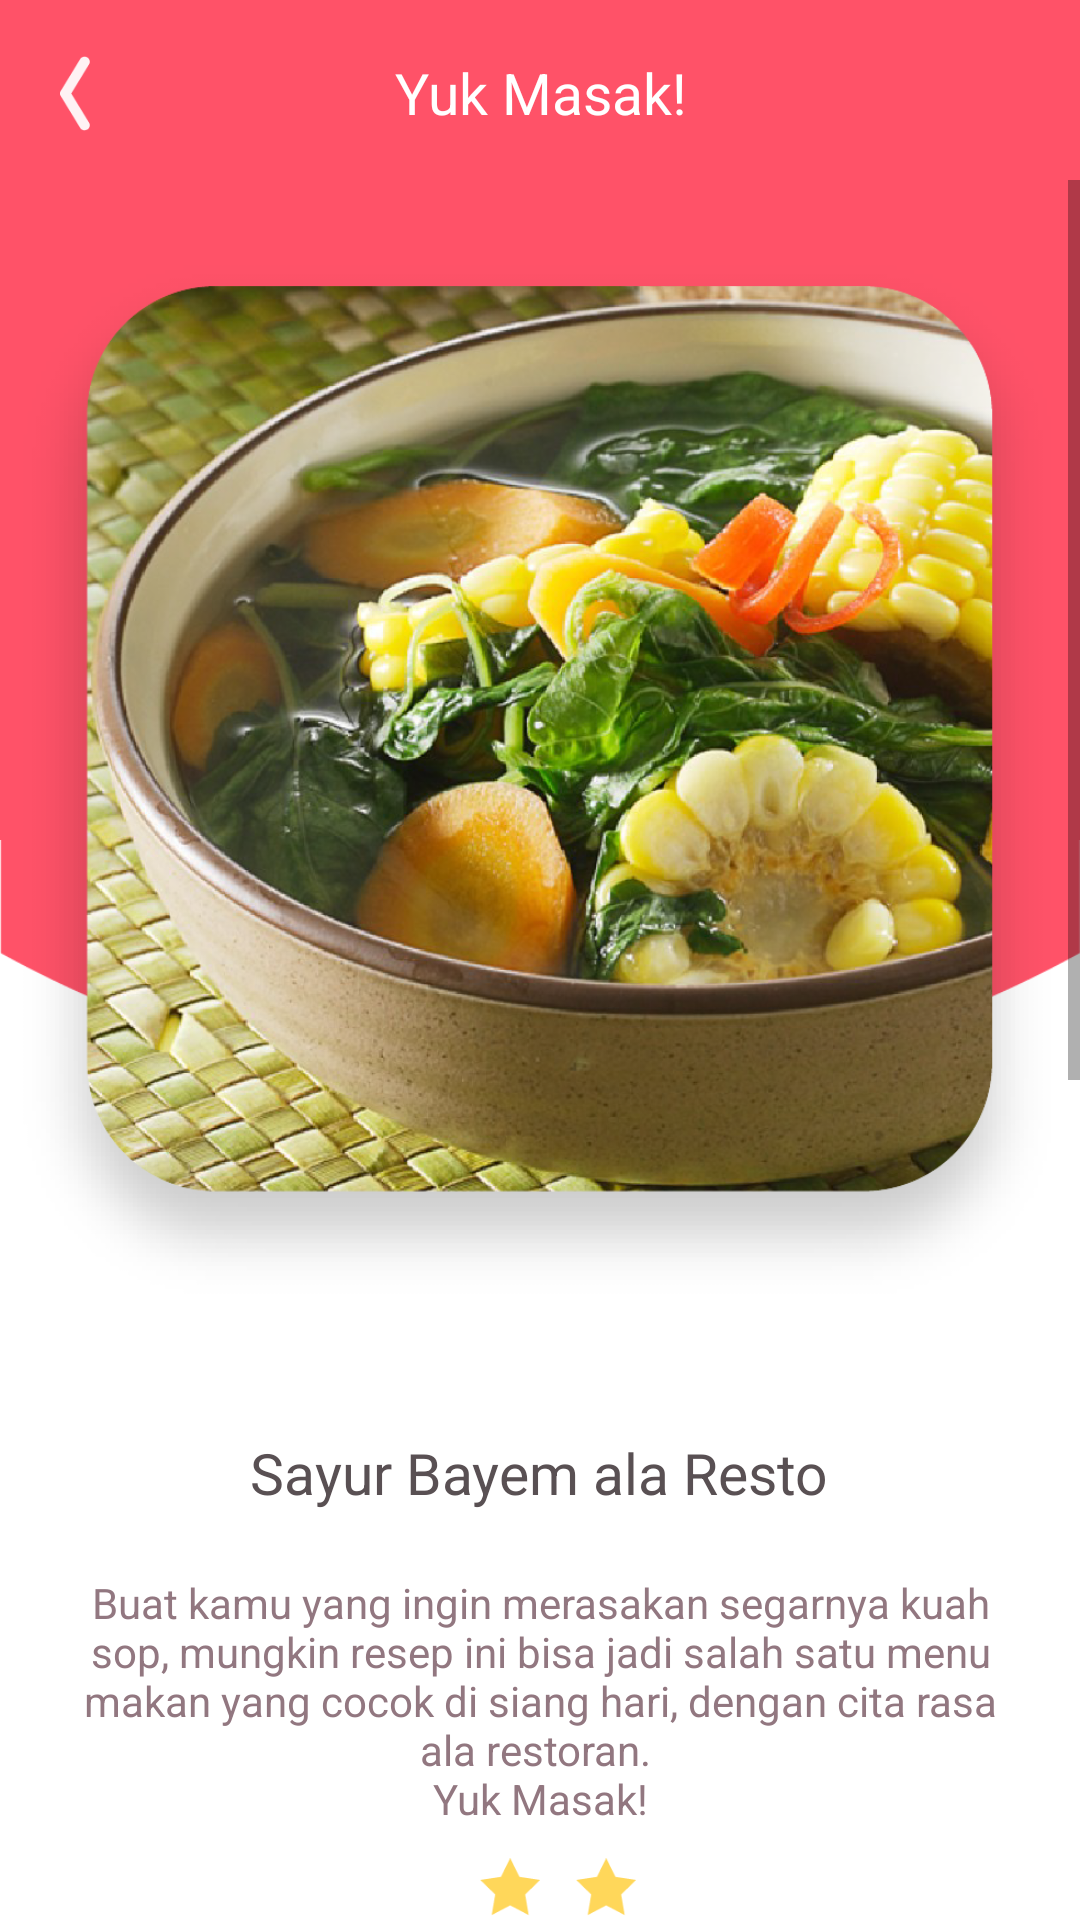

Where to tap for icons on this 1080px×1920px app screen, as point (x, y):
btnback: point (75, 93)
rate: point (510, 1886), point (606, 1886)
